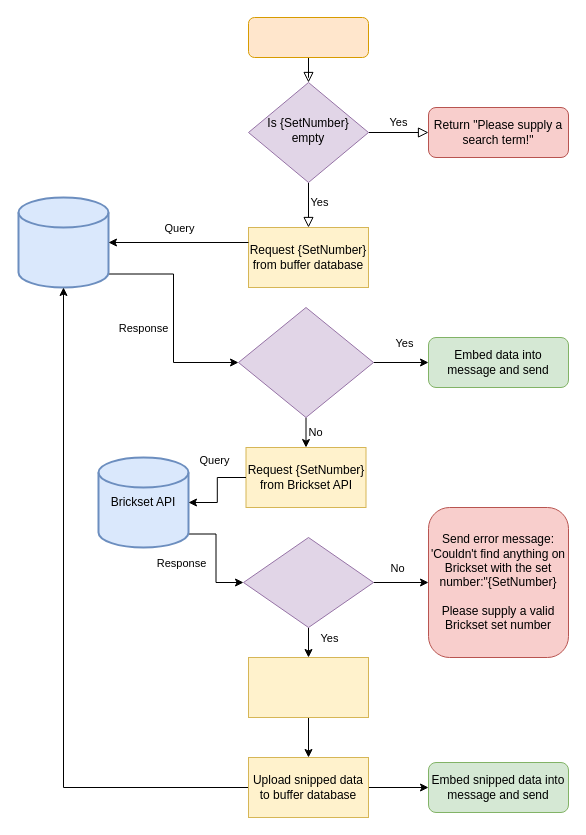
Some shapes in this 586 by 835 pixel diagram are drawn without their labels. Each missing label, with the box of its shape:
Discord user posts "!set {SetNumber}": (248, 16, 368, 58)
Is API response successful?: (242, 536, 374, 628)
Is {SetNumber} in Buffer database?: (238, 306, 374, 418)
MongoDB buffer database: (17, 196, 109, 288)
Snip response JSON to only relevant data: (248, 656, 368, 718)
